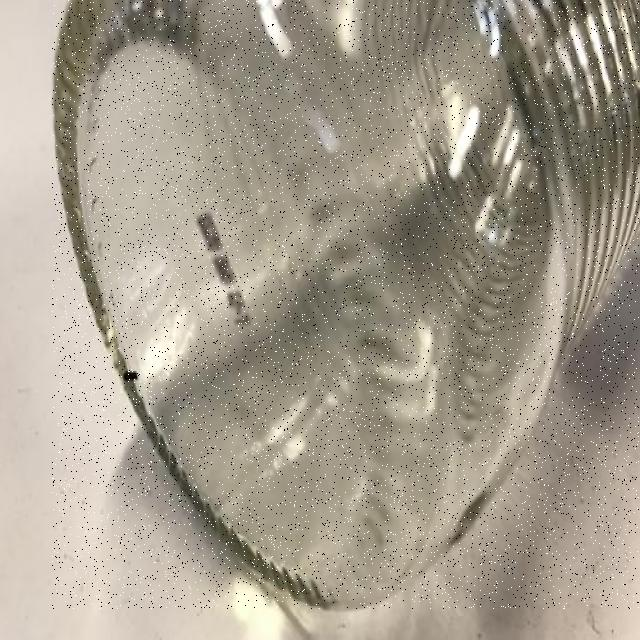glass: (53, 0, 640, 609)
